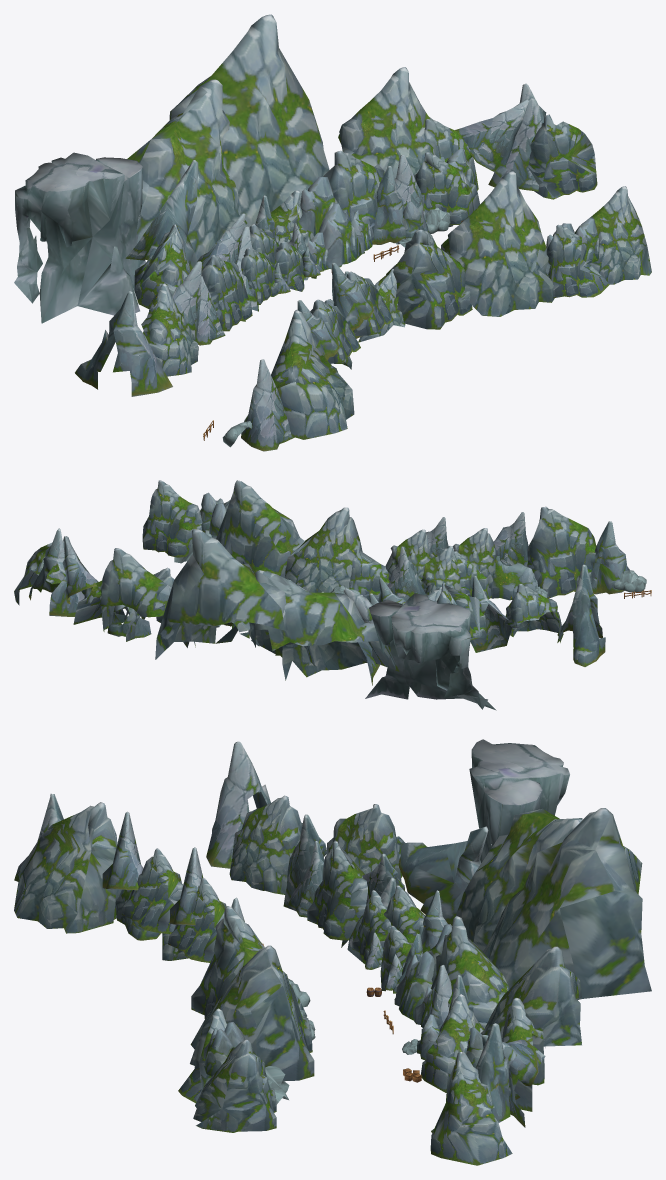
Rendered from yanshi24_1.fbx.
3 renders of one model, top to bottom at view 1: azimuth 30°, elevation 25°; view 2: azimuth 150°, elevation 25°; view 3: azimuth 270°, elevation 25°, orthographic. The views are drawn at different scales.
Visible parts, largest first — view 1: yanshi24_1; view 2: yanshi24_1; view 3: yanshi24_1.
Part boxes in pixels (x1,y1,x2,y2): yanshi24_1: (14, 14, 651, 451); yanshi24_1: (14, 480, 651, 710); yanshi24_1: (14, 739, 651, 1165).
Size of the model in its own units: 9105 by 2896 by 7349.
